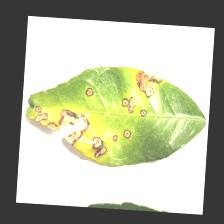canker: (25, 68, 161, 163)
